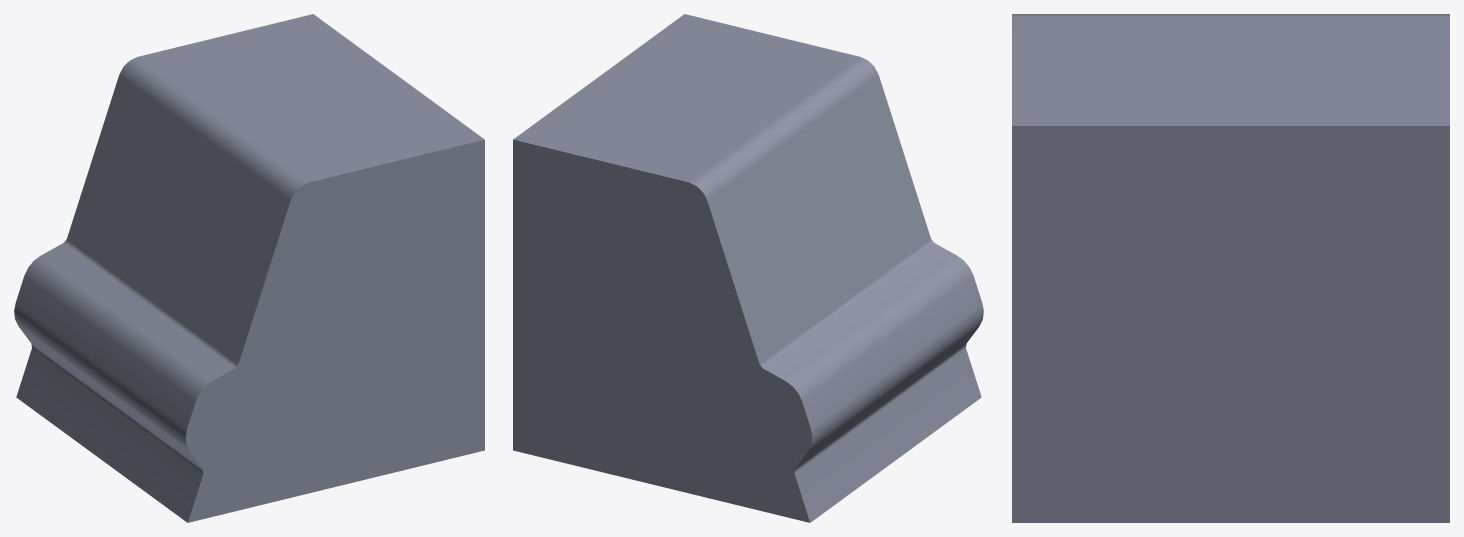
The model's file is WallBigBEVTEST.fbx.
3 renders of one model, left to right at view 1: azimuth 30°, elevation 25°; view 2: azimuth 150°, elevation 25°; view 3: azimuth 270°, elevation 25°, orthographic. The views are drawn at different scales.
Parts seen in each view (by area): view 1: pCube98; view 2: pCube98; view 3: pCube98.
Part boxes in pixels (x1,y1,x2,y2): pCube98: (14,14,484,522); pCube98: (513,14,983,522); pCube98: (1012,14,1449,522).
Bounding box in the file's own units: 101 × 100 × 100.
